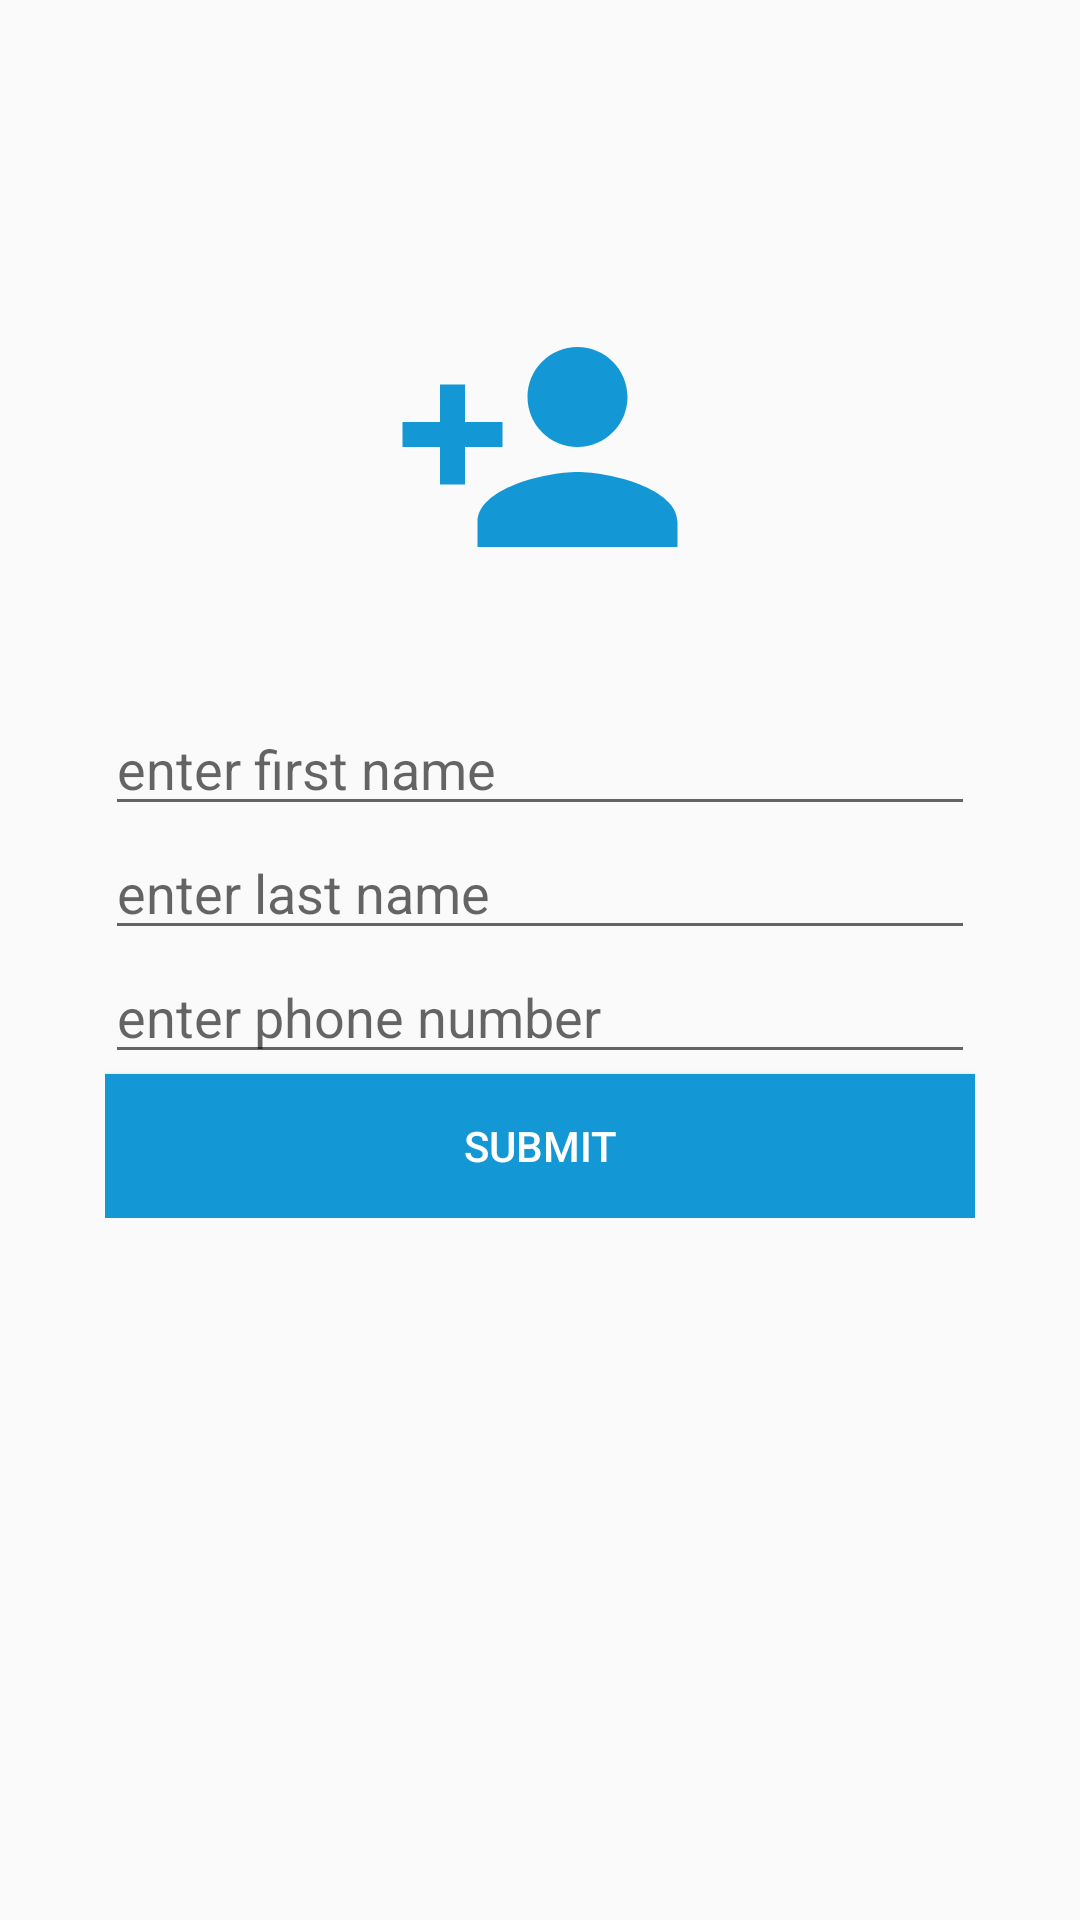

Icon click points for this 1080 x 1920 phone screenshot, format point (x, y):
person add: point (540, 447)
